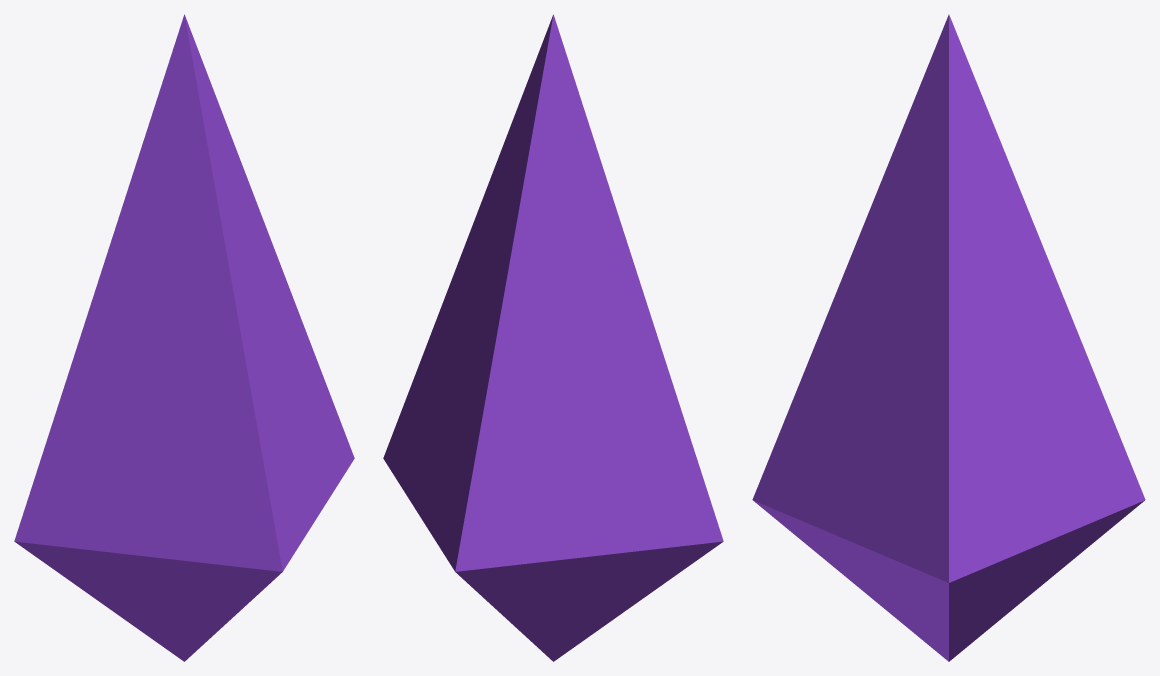
The model's file is chamber_core.fbx.
The picture shows the model from 3 angles, left to right: view 1: azimuth 30°, elevation 25°; view 2: azimuth 150°, elevation 25°; view 3: azimuth 270°, elevation 25°; orthographic projection.
Visible parts, largest first — view 1: part_core; view 2: part_core; view 3: part_core.
Boxes of the visible parts, box(x1,y1,x2,y2) form: part_core: box(14, 14, 354, 661); part_core: box(383, 14, 723, 661); part_core: box(752, 14, 1145, 661).
Bounding box in the file's own units: 0.2542 × 0.4622 × 0.2542.
